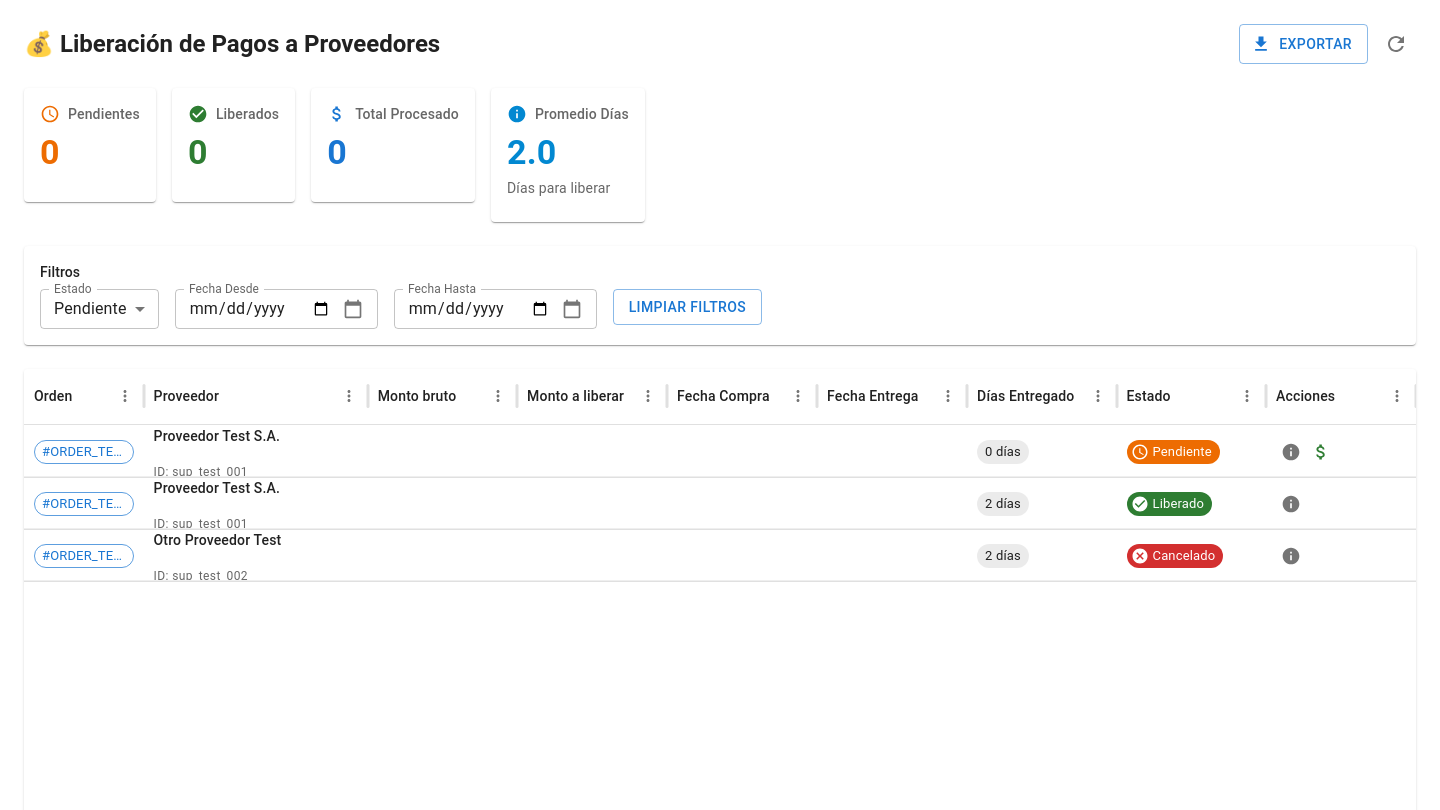
Scenario: PaymentReleasesTable - Filtros › muestra filtro de estado con opciones correctas
The width and height of the screenshot is (1440, 810).
# Abrir select y verificar opciones
Click the dropdown named "Estado".
click(90, 309)  # box [54,299,127,318]
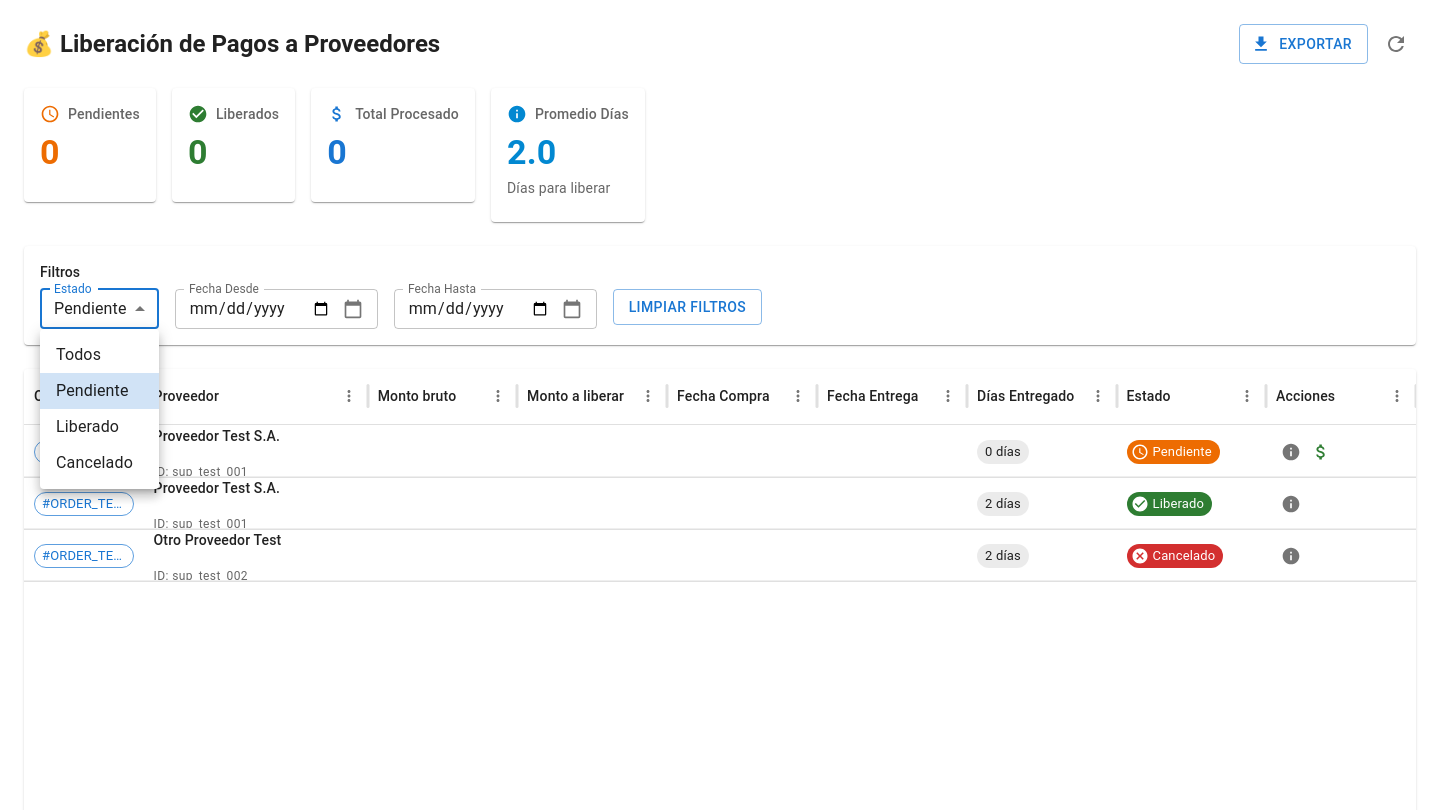
Now the option "Todos" is shown, box [56,345,101,364]
Now the option "Pendiente" is shown, box [40,373,159,409]
Now the option "Liberado" is shown, box [56,417,119,436]
